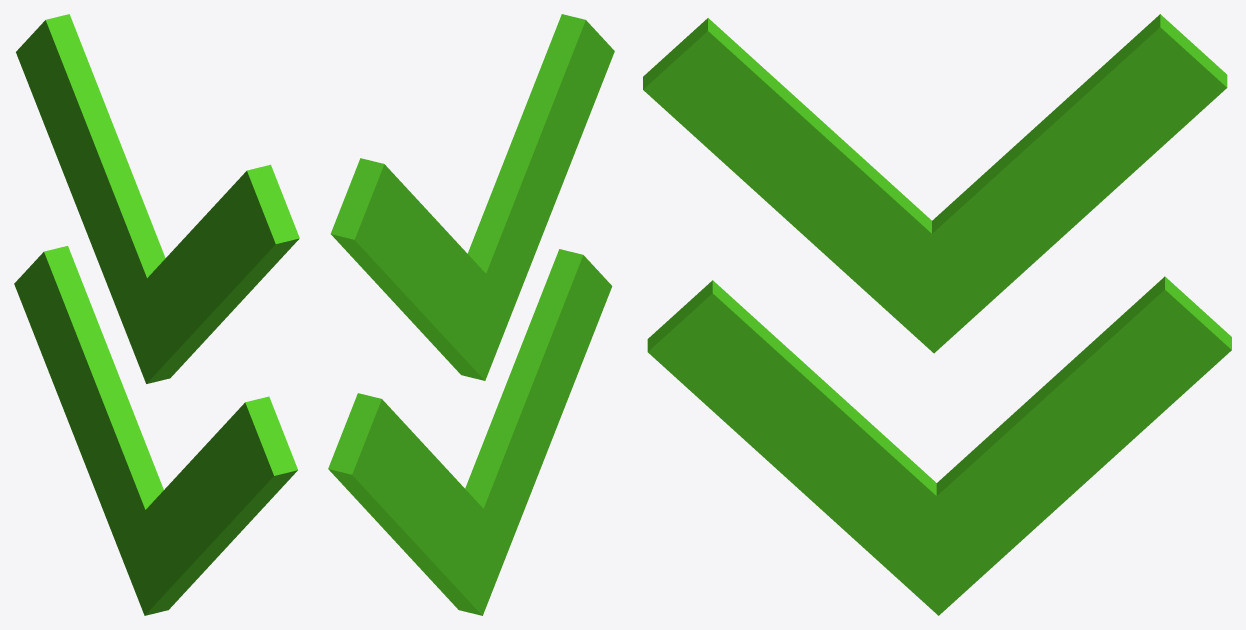
File: speedUP.fbx
The picture shows the model from 3 angles, left to right: view 1: azimuth 30°, elevation 25°; view 2: azimuth 150°, elevation 25°; view 3: azimuth 270°, elevation 25°; orthographic projection. The views are drawn at different scales.
Parts seen in each view (by area): view 1: Cube.001, Cube; view 2: Cube.001, Cube; view 3: Cube, Cube.001.
Boxes of the visible parts, box(x1,y1,x2,y2) form: Cube.001: box(16, 14, 299, 383); Cube: box(14, 246, 297, 615); Cube.001: box(330, 14, 614, 380); Cube: box(328, 249, 612, 615); Cube: box(647, 276, 1231, 615); Cube.001: box(643, 14, 1227, 353).
Size of the model in its own units: 24.93 by 510 by 463.
